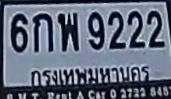2: (107, 10, 125, 49), (127, 10, 145, 48), (147, 10, 165, 47)
6: (10, 13, 28, 53)
9: (87, 11, 104, 50)
A01: (32, 12, 53, 52)
A30: (57, 12, 79, 52)
BKK: (25, 58, 153, 88)
